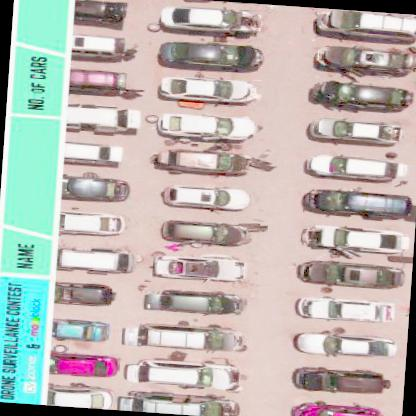car: (312, 42, 415, 83), (302, 186, 414, 221), (310, 77, 411, 114), (130, 357, 243, 389), (158, 38, 264, 72), (116, 387, 244, 415), (297, 258, 407, 290), (315, 7, 415, 42), (154, 3, 264, 34), (138, 321, 248, 352), (300, 223, 408, 254), (158, 110, 261, 141), (294, 364, 390, 396), (294, 328, 396, 358), (152, 252, 249, 283), (145, 288, 248, 317), (161, 216, 255, 246), (153, 146, 250, 175), (294, 295, 390, 324), (310, 115, 404, 144), (160, 183, 252, 212), (160, 76, 258, 102), (307, 152, 401, 179), (288, 397, 385, 415), (61, 210, 129, 234), (51, 384, 114, 408), (55, 318, 110, 340)
